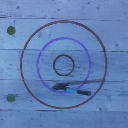Axe Tip: (57, 82, 70, 85)
